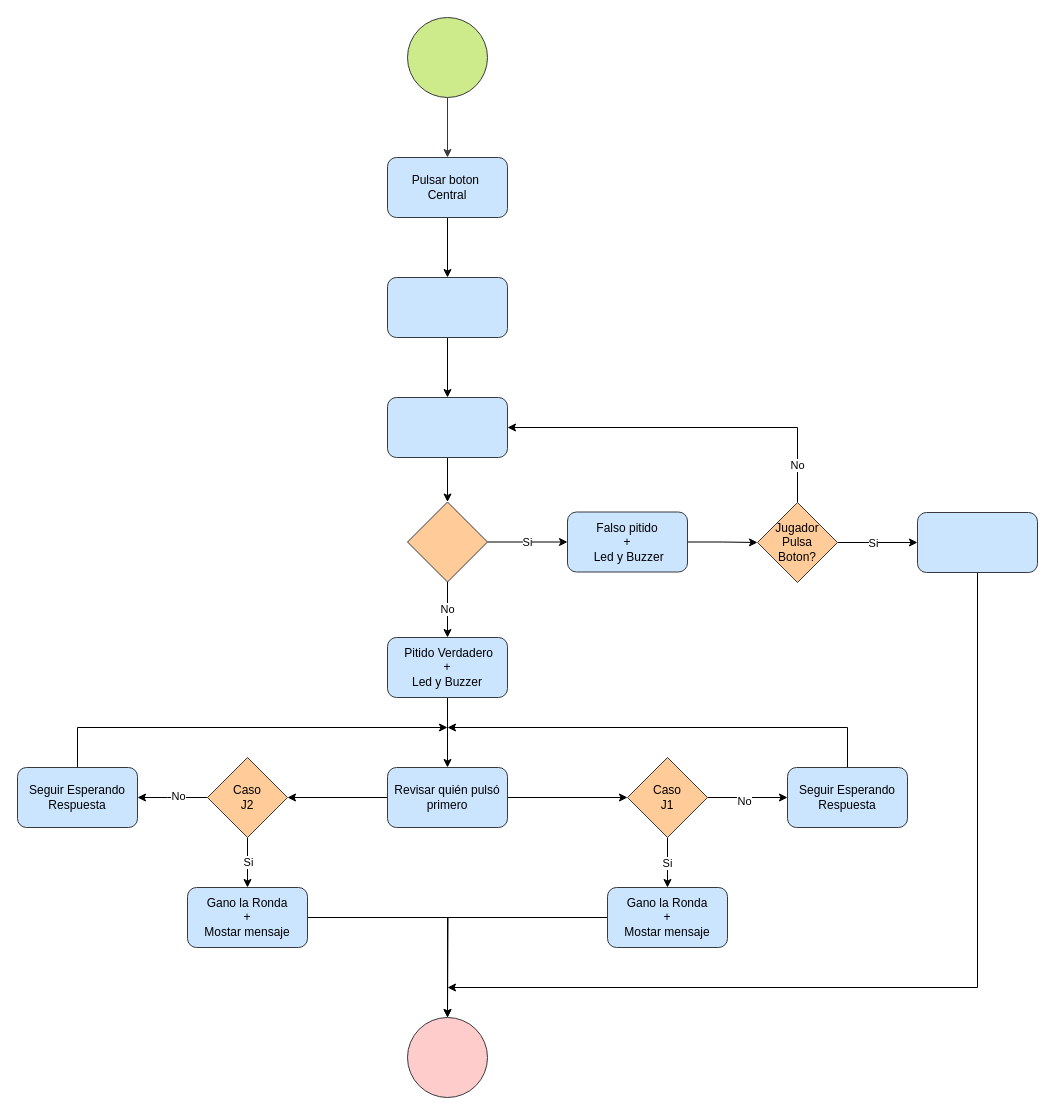
Image size: 1055x1115. Some labels were removed from this diagram. The box of each missing label's shape, as (x1, y1, x2, y2) in pixels:
Encendido de LEDs / preparación: (386, 276, 508, 338)
Espera: (386, 396, 508, 458)
Fin: (406, 1016, 488, 1098)
Inicio: (406, 16, 488, 98)
Mostrar Mensaje de Derrota: (916, 512, 1038, 572)
Señal Falsa: (406, 501, 488, 582)
